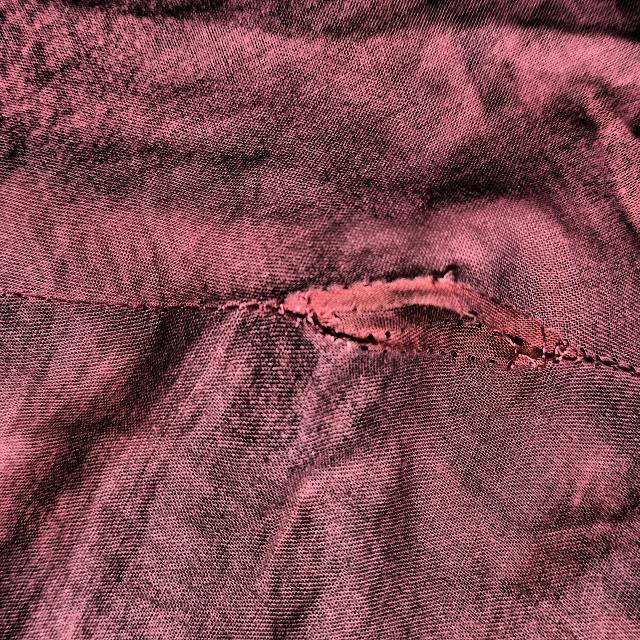cut: (270, 237, 602, 417)
